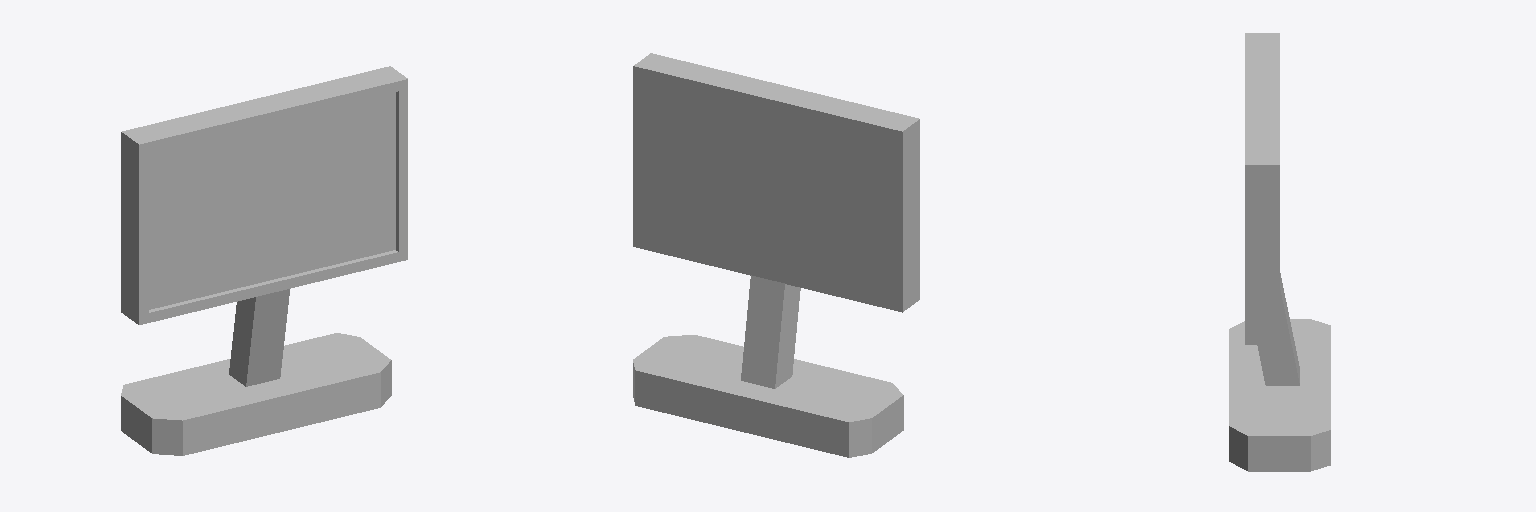
Rendered from computer01.obj.
3 renders of one model, left to right at view 1: azimuth 30°, elevation 25°; view 2: azimuth 150°, elevation 25°; view 3: azimuth 270°, elevation 25°, orthographic.
Parts seen in each view (by area): view 1: cube1; view 2: cube1; view 3: cube1.
Part boxes in pixels (x1,y1,x2,y2): cube1: (121,66,407,455); cube1: (633,53,919,457); cube1: (1229,33,1330,471).
Bounding box in the file's own units: 3.11 × 3.47 × 1.03.